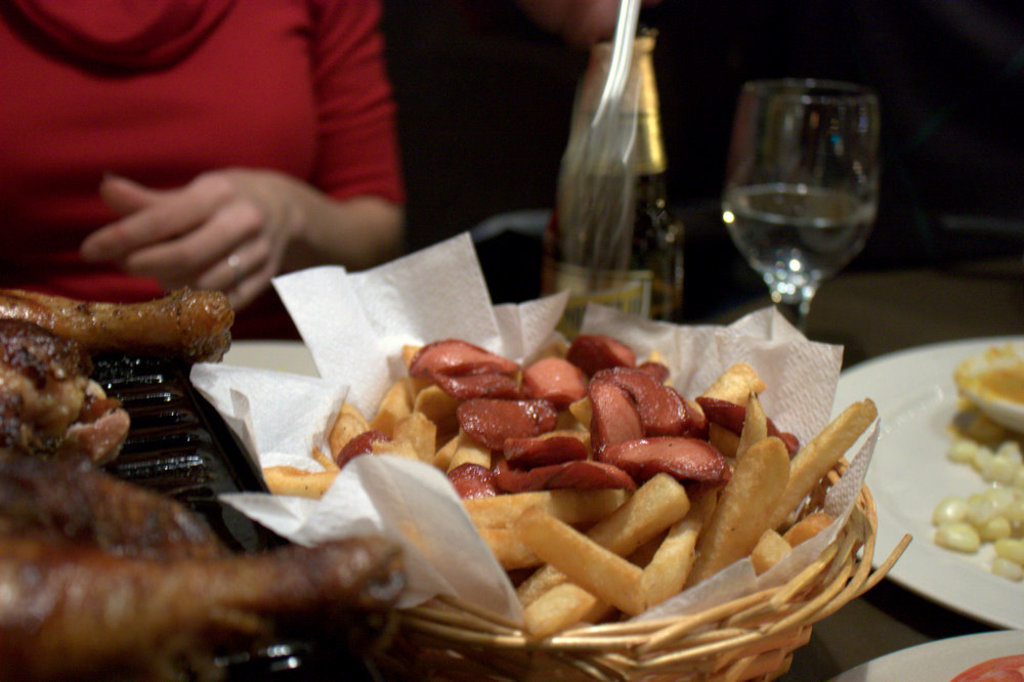French fries: (254, 330, 883, 660)
